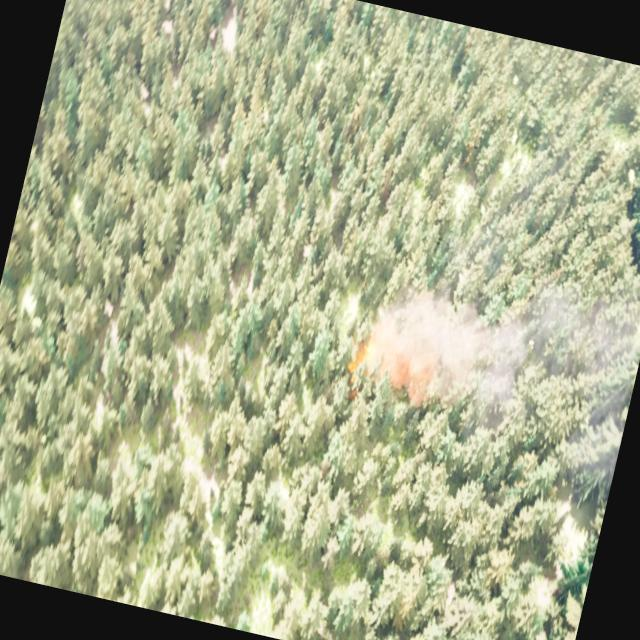smoke: (349, 253, 640, 443)
